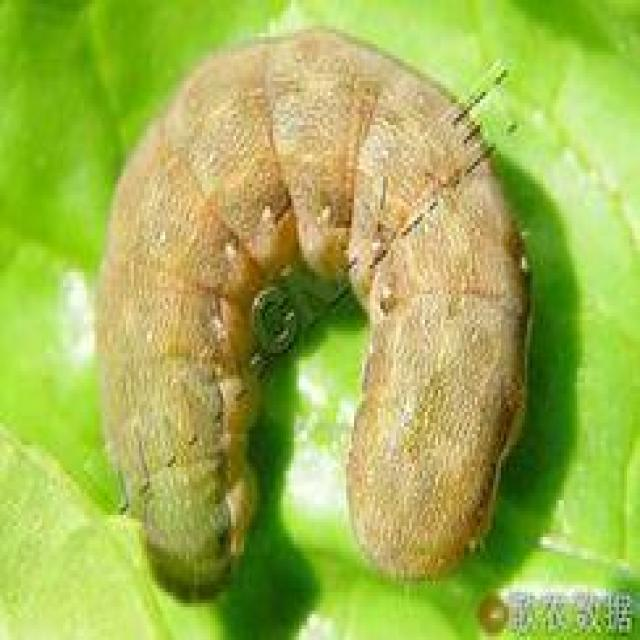BeetArmyWorm-Larva-: (75, 11, 563, 618)
